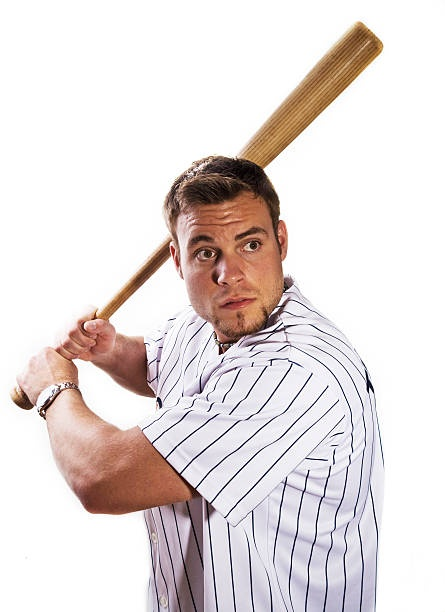bita: (244, 24, 379, 172), (50, 234, 184, 372)
